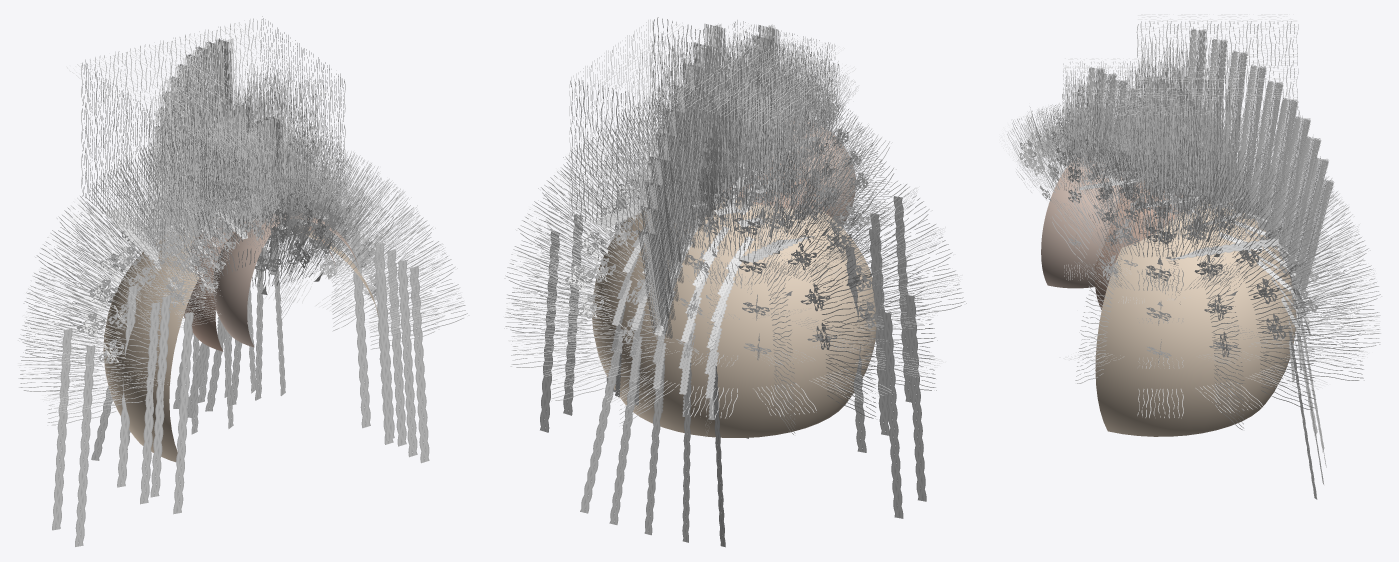
The model's file is kickole_hair.glb.
3 renders of one model, left to right at view 1: azimuth 30°, elevation 25°; view 2: azimuth 150°, elevation 25°; view 3: azimuth 270°, elevation 25°, orthographic. The views are drawn at different scales.
Parts seen in each view (by area): view 1: primitive-afro, primitive-highTop, female-afro, female-braids, primitive-braids, primitive-scalp, female-highTop, male-braids, primitive-mohawk, primitive-curls, female-curls, male-afro (+7 smaller); view 2: primitive-afro, primitive-scalp, primitive-highTop, primitive-braids, primitive-mohawk, primitive-curls, female-highTop, male-braids, male-afro, female-afro, male-highTop, male-mohawk (+7 smaller); view 3: primitive-scalp, primitive-afro, primitive-highTop, primitive-mohawk, female-scalp, female-afro, female-highTop, primitive-curls, primitive-braids, male-highTop, female-curls, female-mohawk (+5 smaller).
Part boxes in pixels (bbox=[...]): primitive-afro: bbox=[18, 124, 469, 425]; primitive-highTop: bbox=[66, 16, 345, 255]; female-afro: bbox=[162, 160, 395, 327]; female-braids: bbox=[150, 198, 417, 514]; primitive-braids: bbox=[52, 187, 429, 546]; primitive-scalp: bbox=[103, 217, 378, 462]; female-highTop: bbox=[191, 104, 341, 231]; male-braids: bbox=[117, 202, 393, 504]; primitive-mohawk: bbox=[148, 38, 234, 221]; primitive-curls: bbox=[77, 189, 388, 363]; female-curls: bbox=[186, 185, 373, 292]; male-afro: bbox=[126, 161, 373, 330]; primitive-afro: bbox=[503, 87, 966, 436]; primitive-scalp: bbox=[592, 197, 876, 437]; primitive-highTop: bbox=[569, 17, 855, 262]; primitive-braids: bbox=[540, 198, 926, 547]; primitive-mohawk: bbox=[637, 23, 729, 339]; primitive-curls: bbox=[565, 160, 882, 360]; female-highTop: bbox=[690, 20, 844, 149]; male-braids: bbox=[606, 162, 889, 452]; male-afro: bbox=[616, 99, 884, 280]; female-afro: bbox=[689, 55, 894, 241]; male-highTop: bbox=[654, 57, 820, 192]; male-mohawk: bbox=[690, 56, 749, 223]; primitive-scalp: bbox=[1095, 201, 1296, 436]; primitive-afro: bbox=[1024, 102, 1381, 429]; primitive-highTop: bbox=[1125, 14, 1300, 240]; primitive-mohawk: bbox=[1184, 28, 1334, 290]; female-scalp: bbox=[1041, 155, 1123, 288]; female-afro: bbox=[1000, 102, 1185, 286]; female-highTop: bbox=[1062, 58, 1151, 179]; primitive-curls: bbox=[1096, 172, 1318, 362]; primitive-braids: bbox=[1167, 170, 1326, 499]; male-highTop: bbox=[1113, 67, 1212, 196]; female-curls: bbox=[1019, 125, 1146, 246]; female-mohawk: bbox=[1085, 67, 1171, 172].
Size of the model in its own units: 0.5061 by 0.5442 by 0.435.
Materials: 9 (6 with a texture image).
